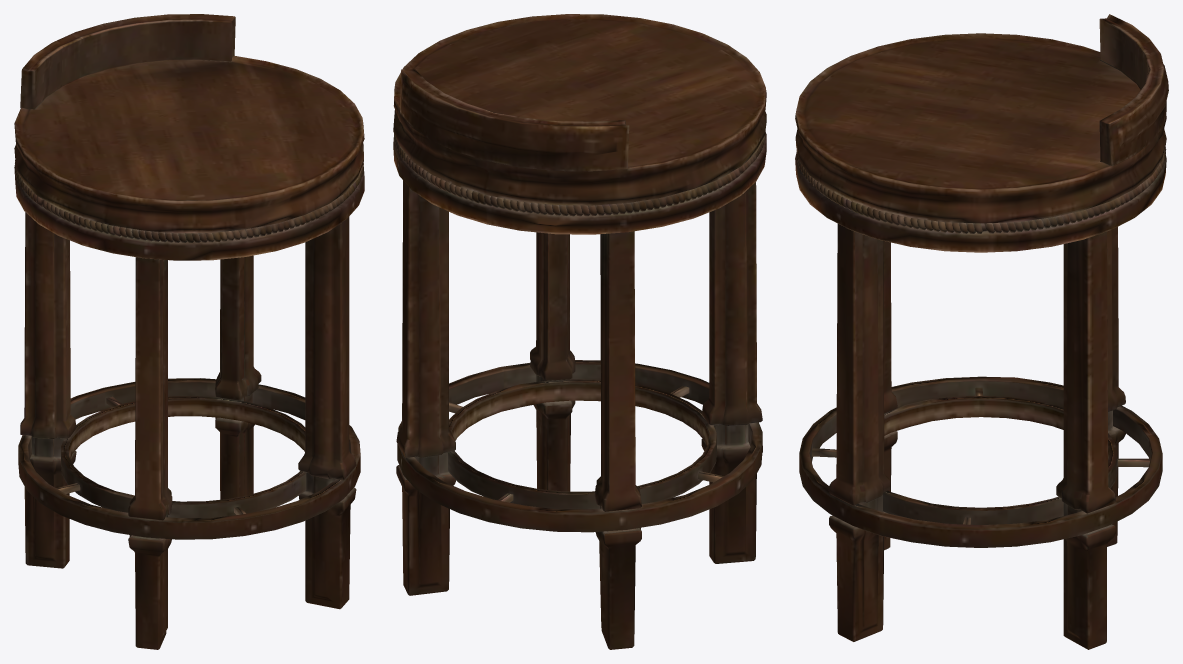
The model's file is bar_chair_round_01.glb.
The picture shows the model from 3 angles, left to right: view 1: azimuth 30°, elevation 25°; view 2: azimuth 150°, elevation 25°; view 3: azimuth 270°, elevation 25°; orthographic projection. The views are drawn at different scales.
Visible parts, largest first — view 1: mesh; view 2: mesh; view 3: mesh.
Boxes of the visible parts, bbox=[...] form: mesh: bbox=[14, 14, 364, 649]; mesh: bbox=[393, 14, 766, 649]; mesh: bbox=[795, 14, 1168, 649].
Size of the model in its own units: 0.4832 by 0.7505 by 0.486.
1 material, 1 textured.
